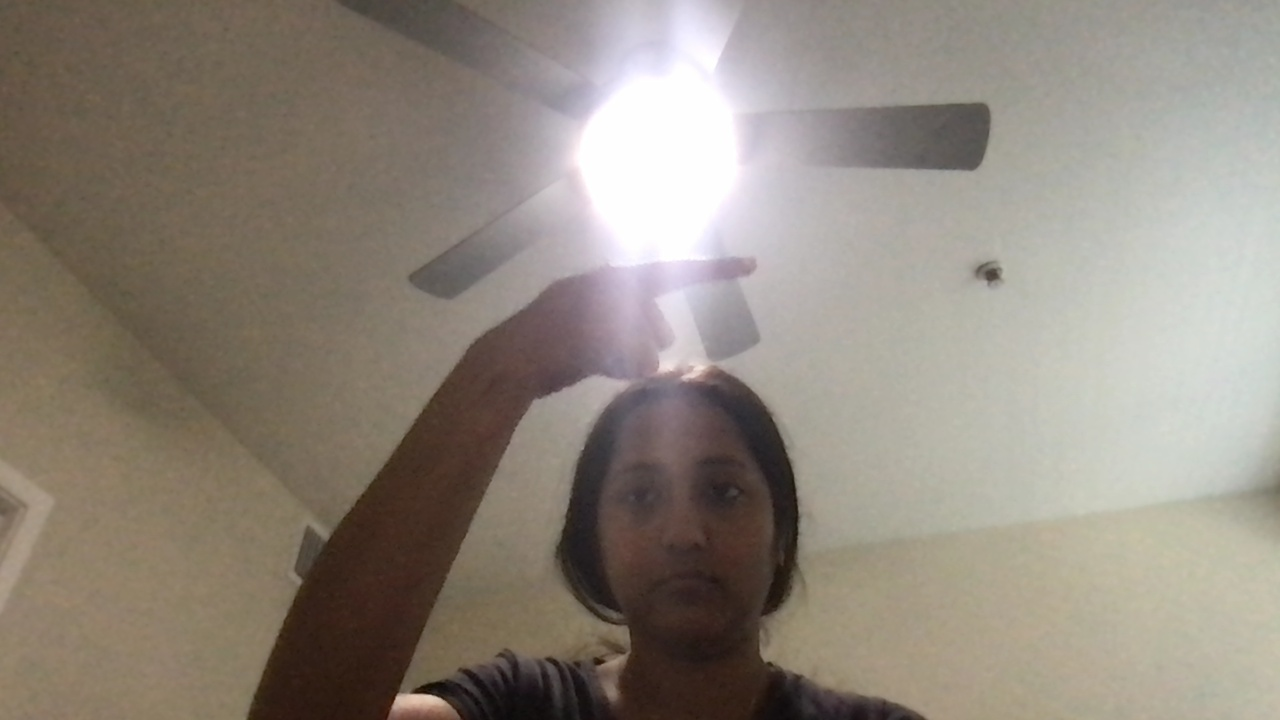g: (567, 250, 767, 382)
